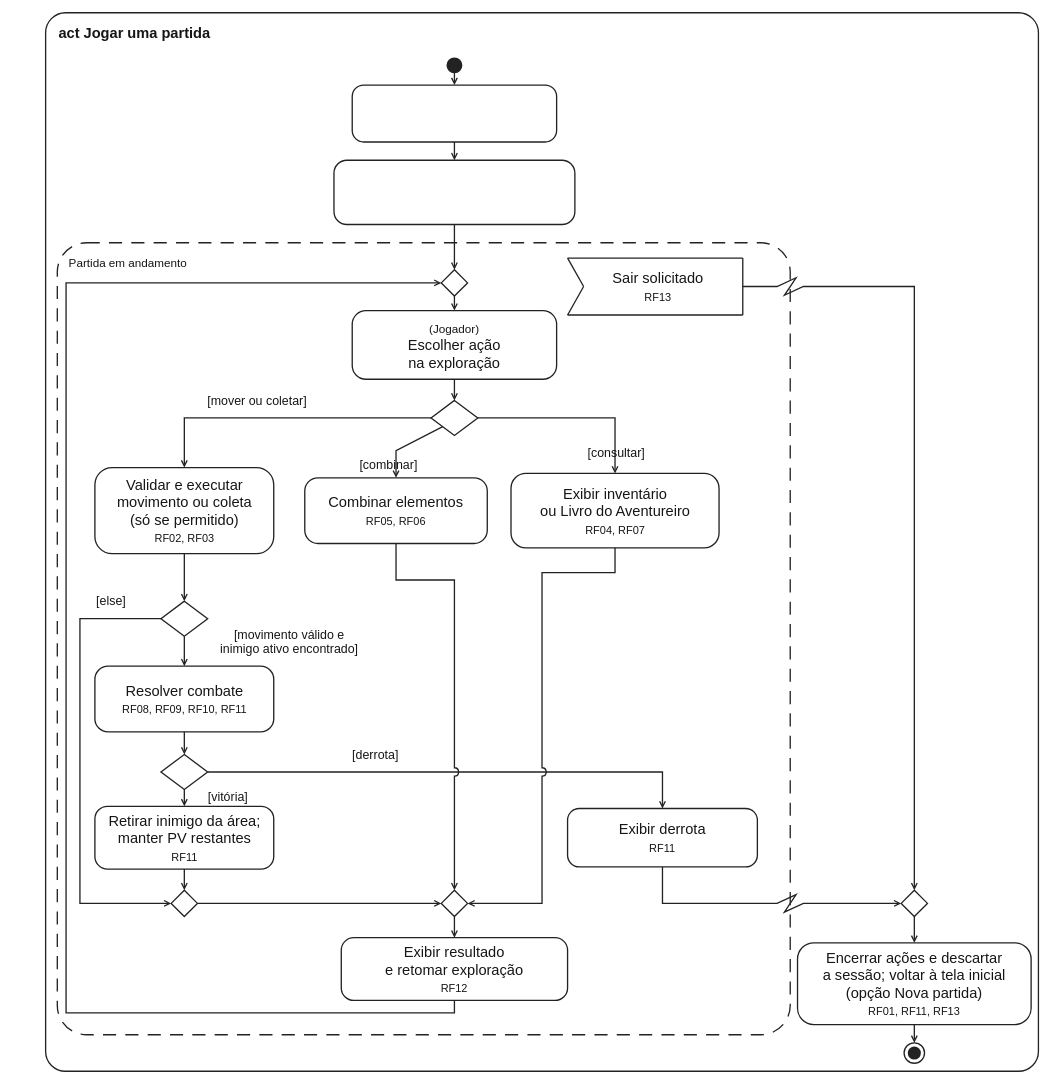
This 1051x1085 diagram has some shape labels left out. The centre of each missing label's shape, as x and y in pixels:
"(Jogador) Solicitar nova partida" belongs at point (454, 113).
"Inicializar área, PV, inventário e Livro RF01" belongs at point (454, 192).
